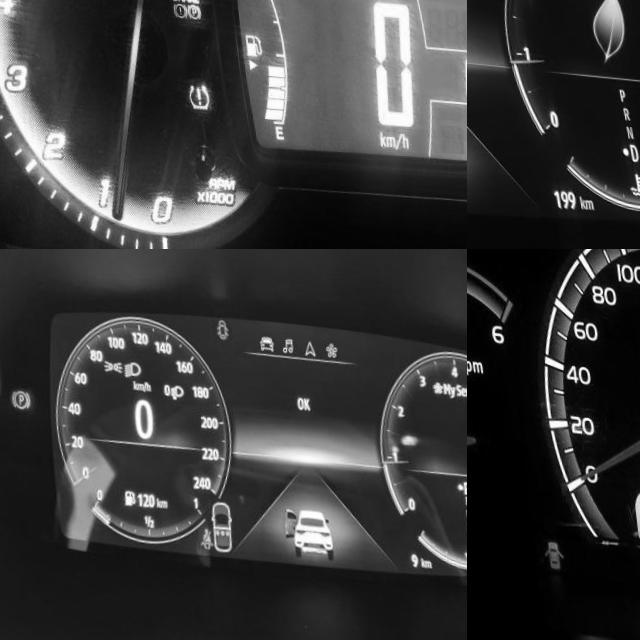Doors: (530, 535, 552, 565), (207, 310, 224, 334)
Low beam: (114, 354, 135, 378)
SideLamp: (93, 353, 116, 371)
